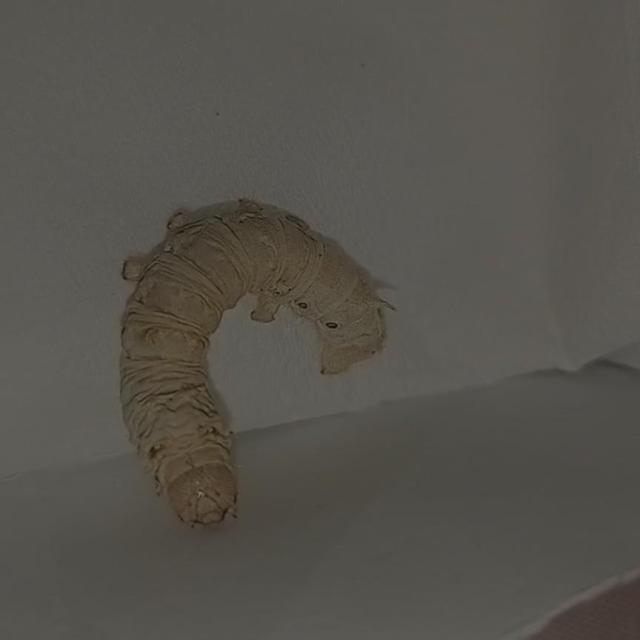Healthy: (86, 172, 407, 553)
